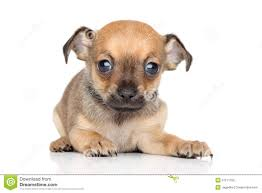chihuahua: (38, 15, 220, 164)
